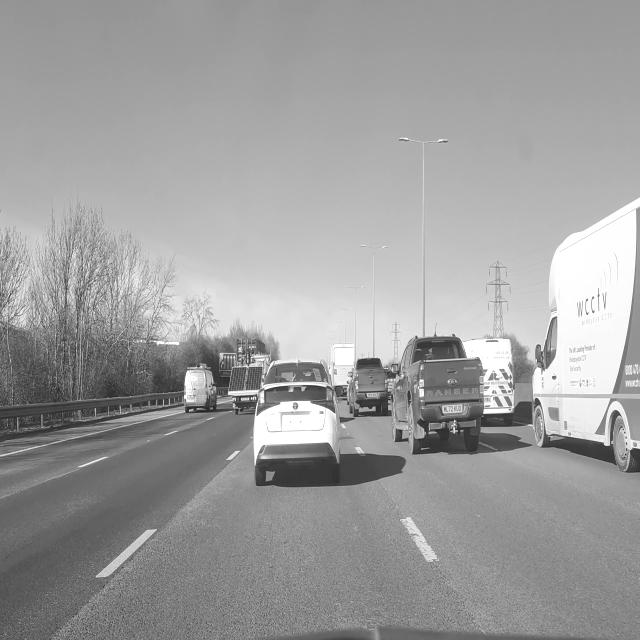car: (528, 187, 640, 479), (388, 326, 486, 461), (254, 360, 343, 485), (346, 352, 391, 419), (184, 364, 216, 412)
